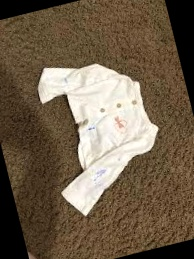ink: (93, 168, 107, 179), (87, 126, 94, 131), (64, 78, 68, 83)
